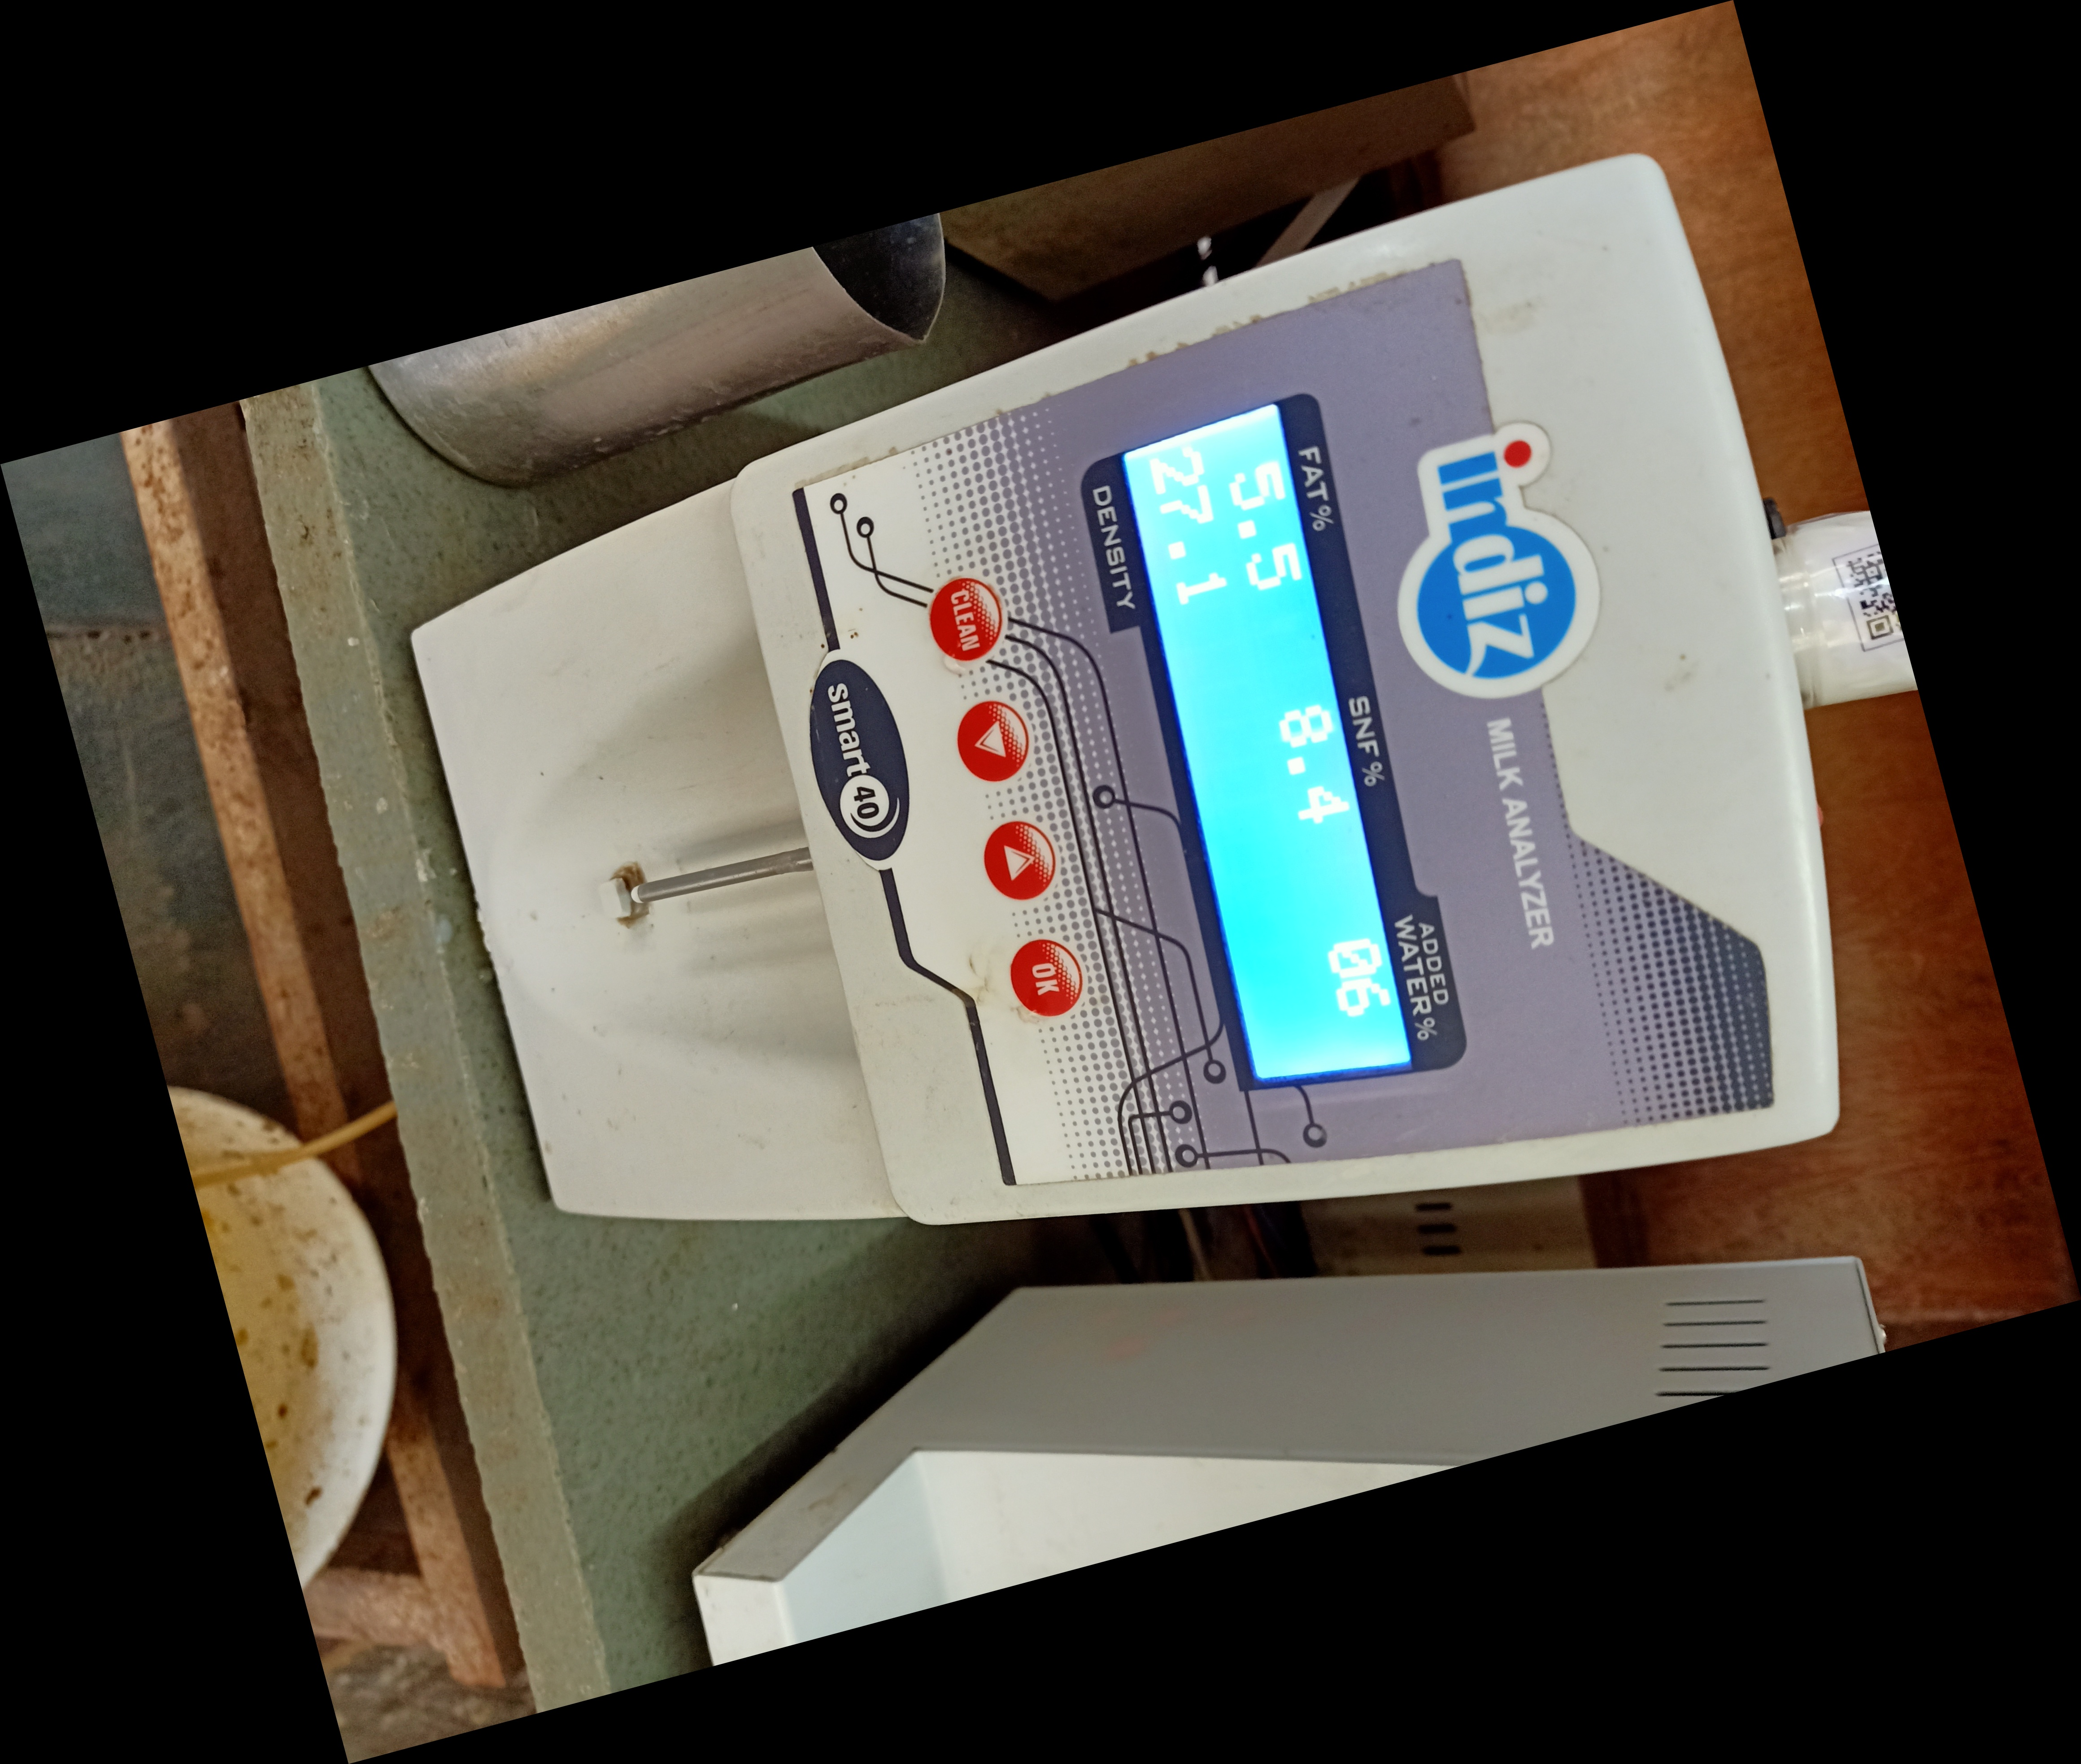lcd: (1092, 378, 1482, 1095)
